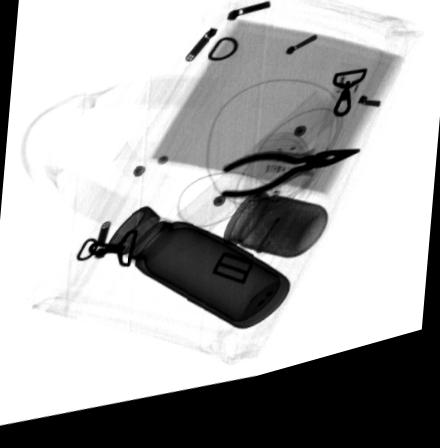Pliers: (217, 166, 362, 212)
